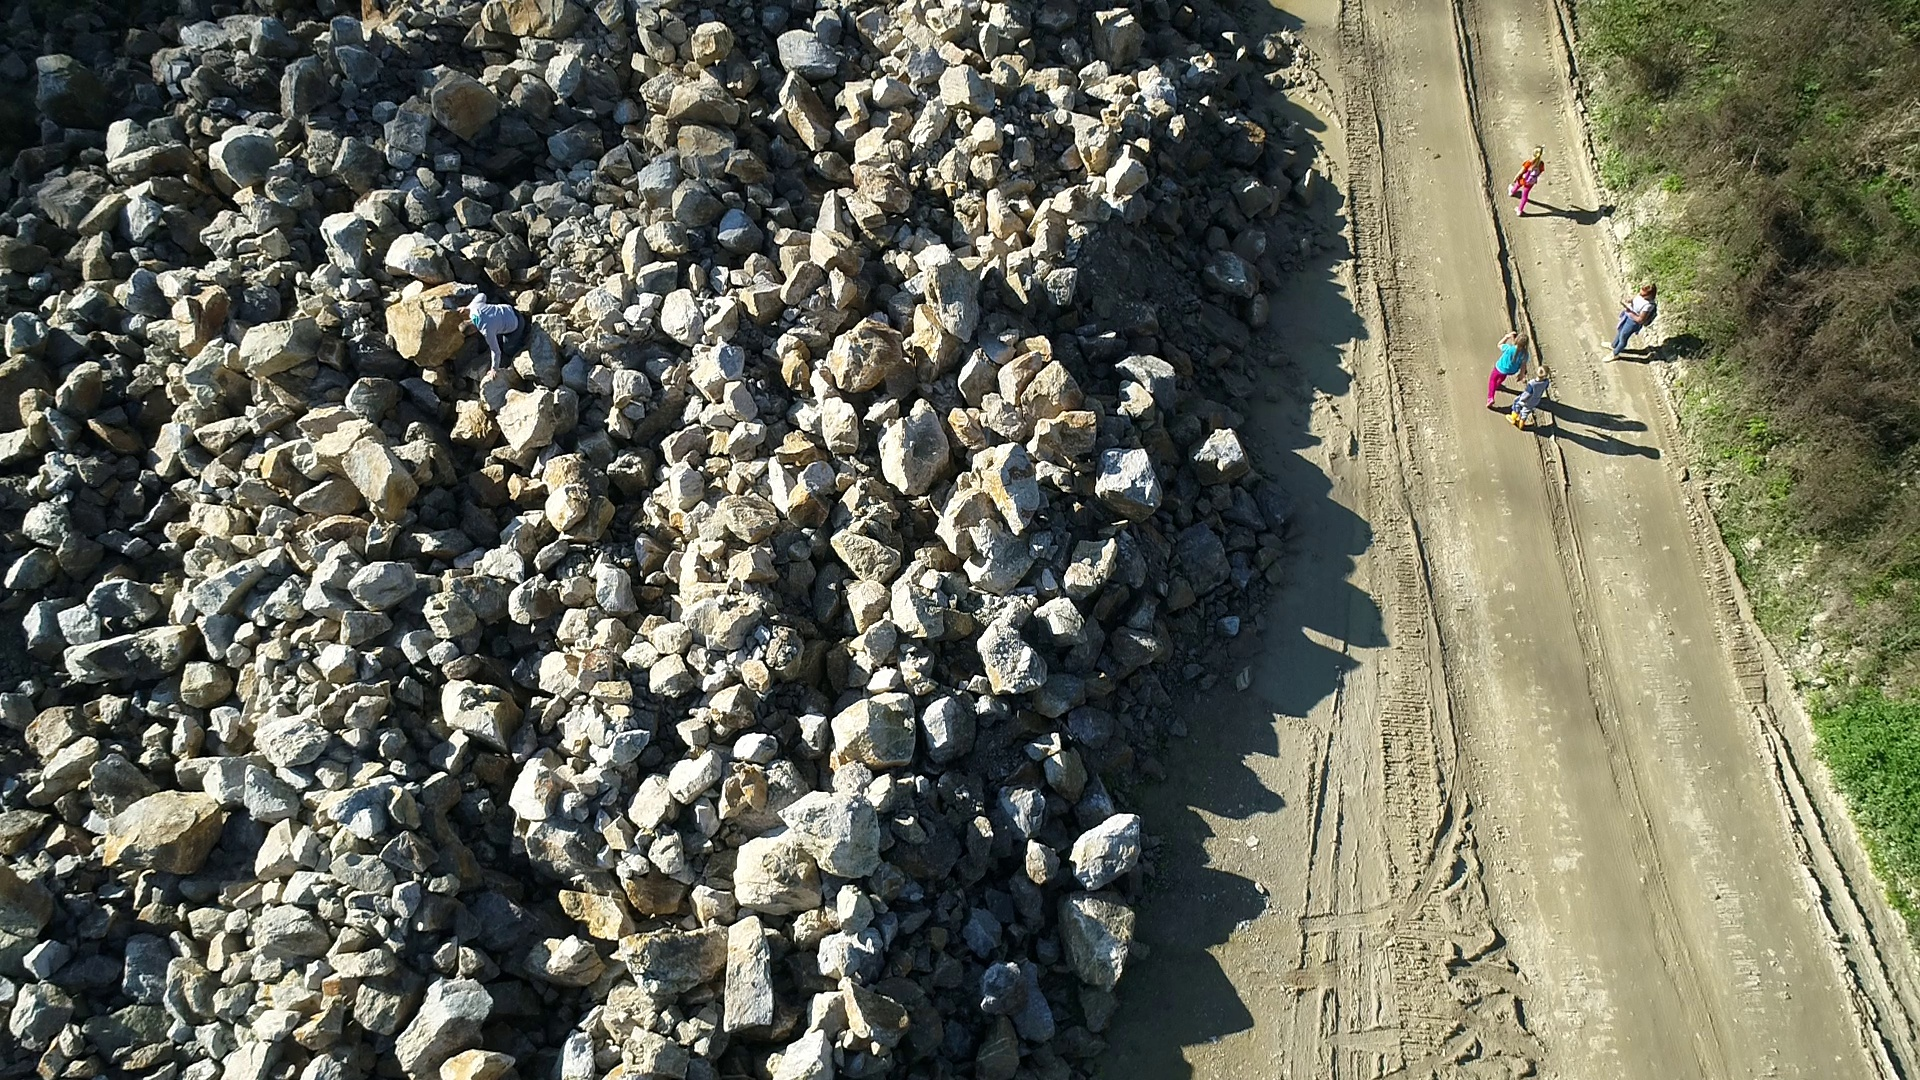not_defined: (457, 288, 526, 374)
person: (1603, 280, 1658, 366), (1504, 362, 1552, 431), (1485, 333, 1530, 406), (1508, 145, 1545, 217)
